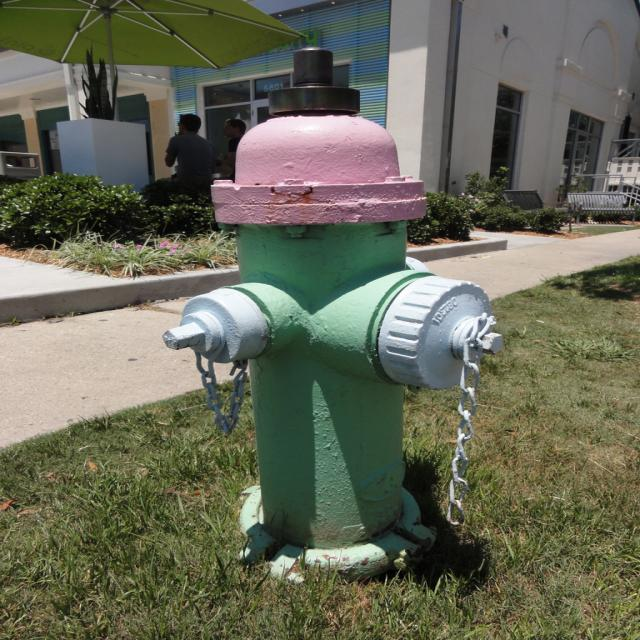fire_hydrant: (164, 48, 506, 572)
